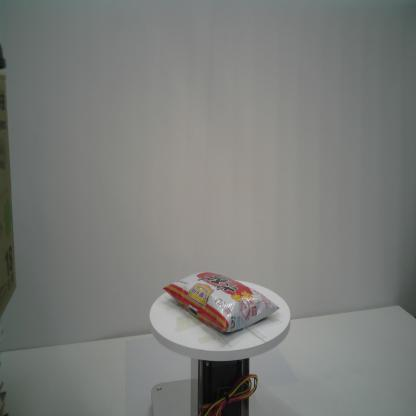Seasoner: (160, 263, 280, 338)
